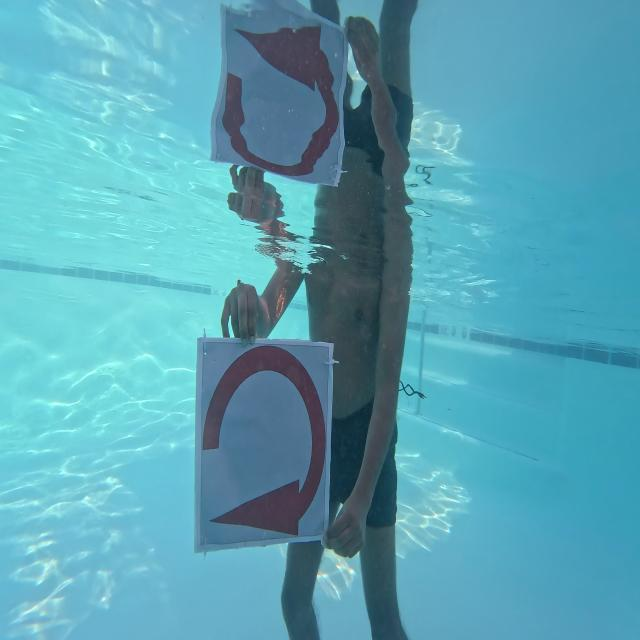red_side: (197, 340, 326, 544)
